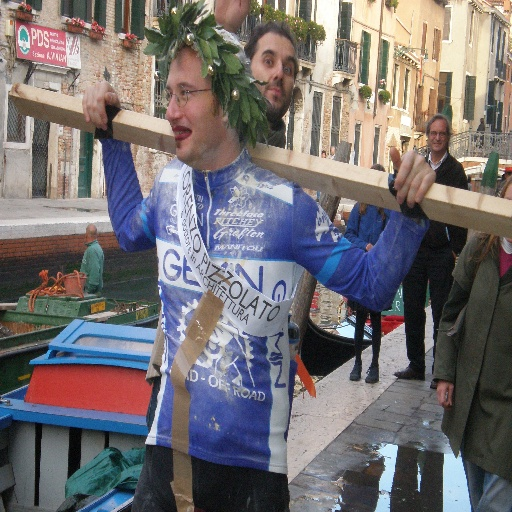hand: (386, 142, 437, 210), (70, 64, 117, 124), (213, 0, 251, 30), (434, 383, 456, 412), (366, 243, 373, 251)
